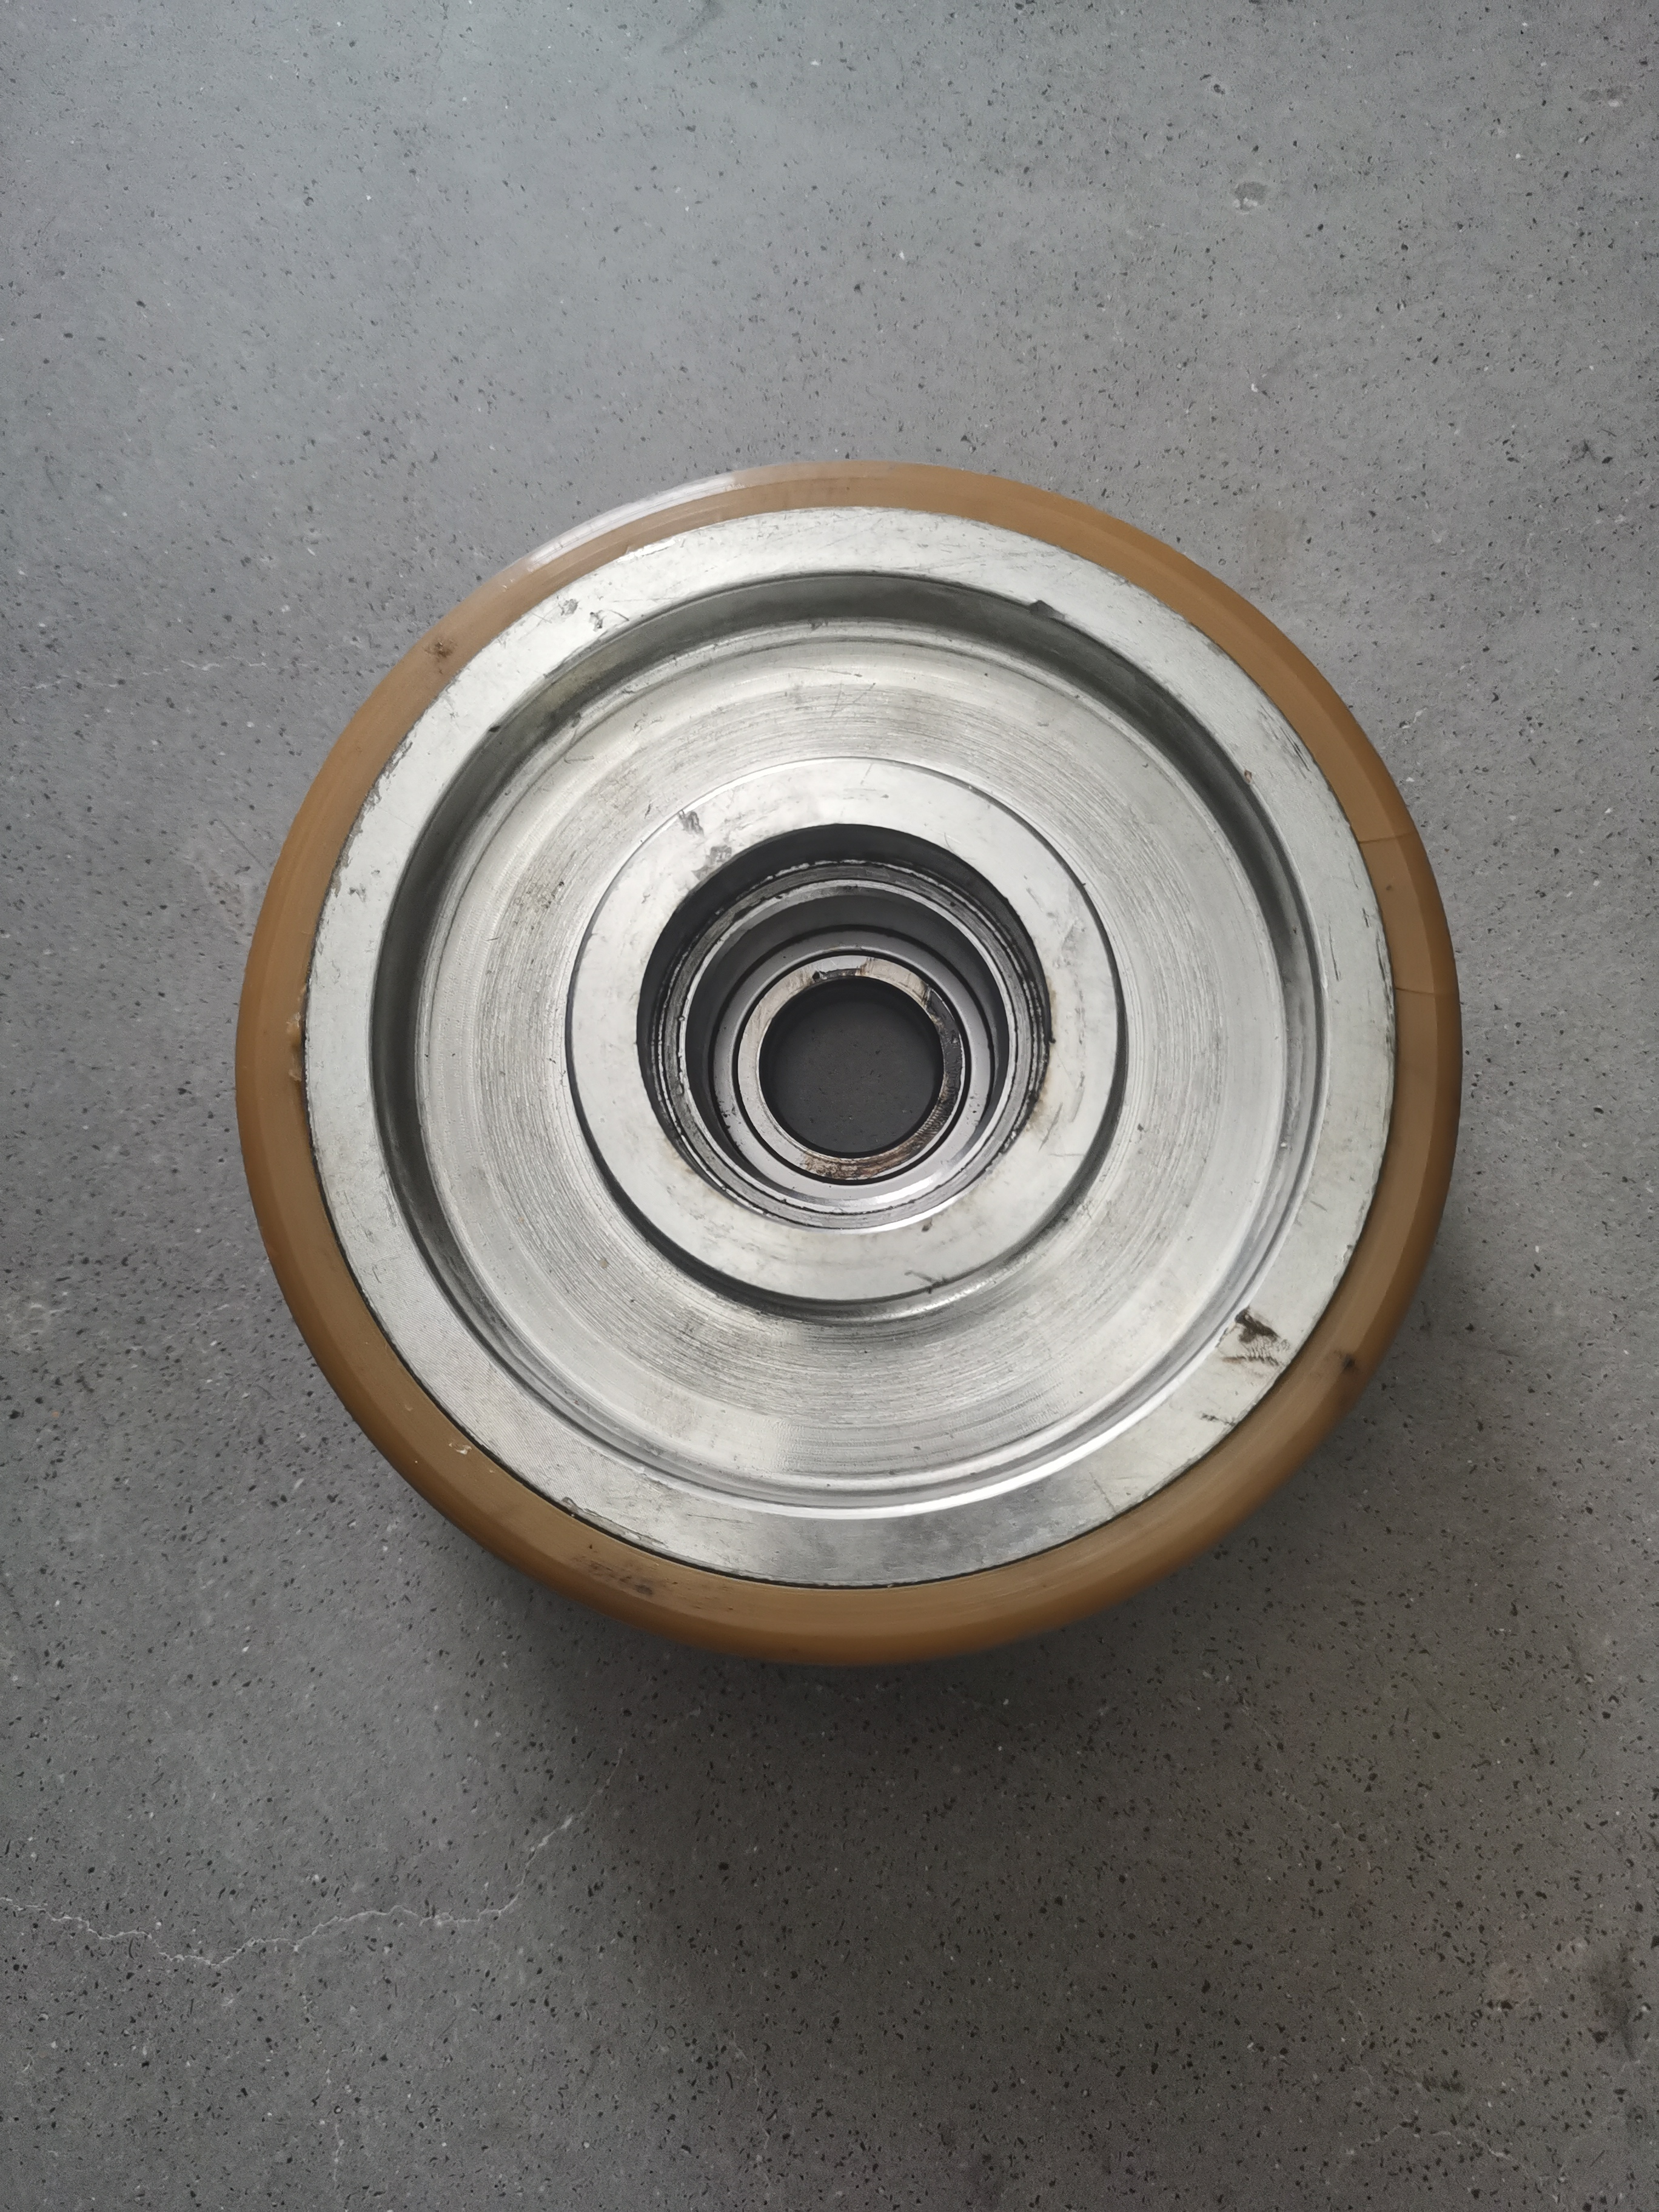bad_wheel: (624, 801, 1180, 1285)
